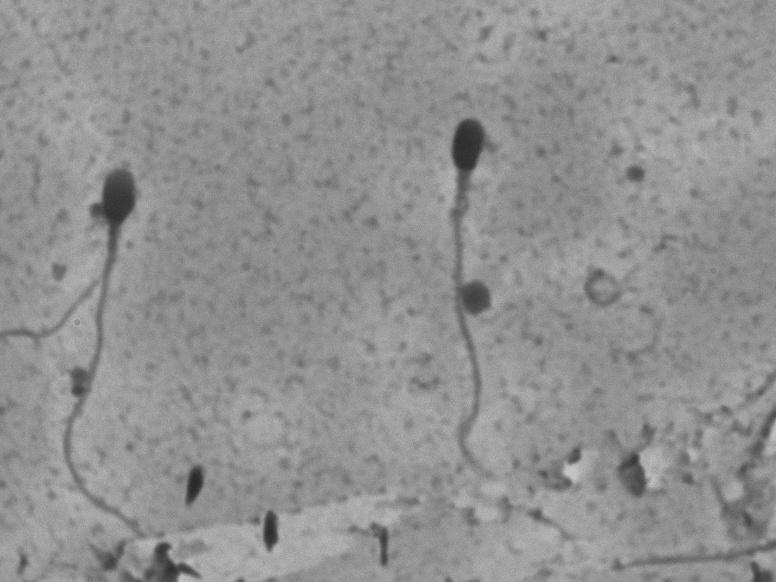Abnormal: (406, 96, 543, 498)
Normal: (55, 162, 147, 537)
